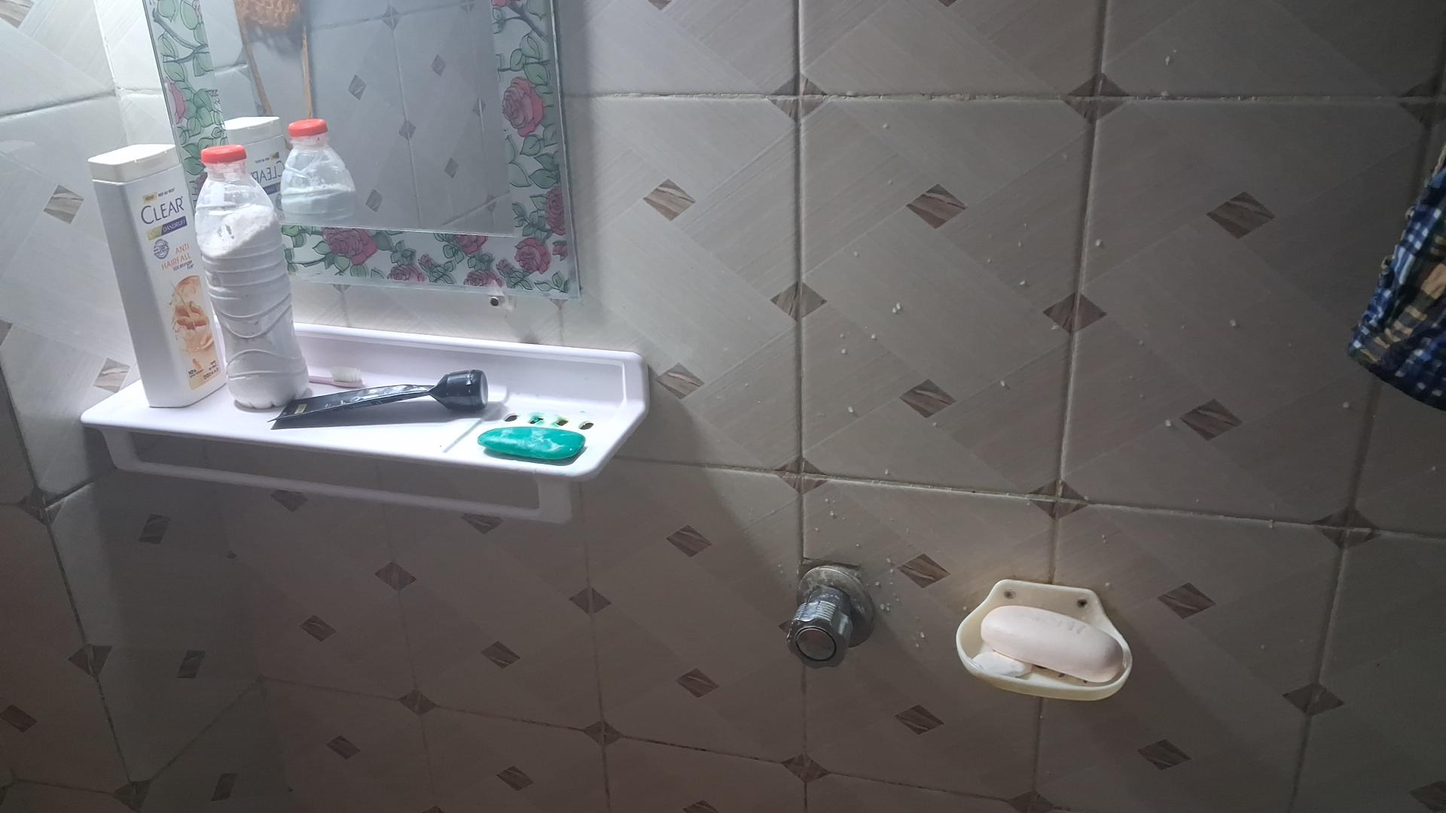Bottle: (83, 147, 226, 411), (193, 144, 312, 413), (1347, 148, 1445, 411), (279, 117, 357, 228)
Soap: (977, 601, 1133, 692), (469, 416, 583, 477)
